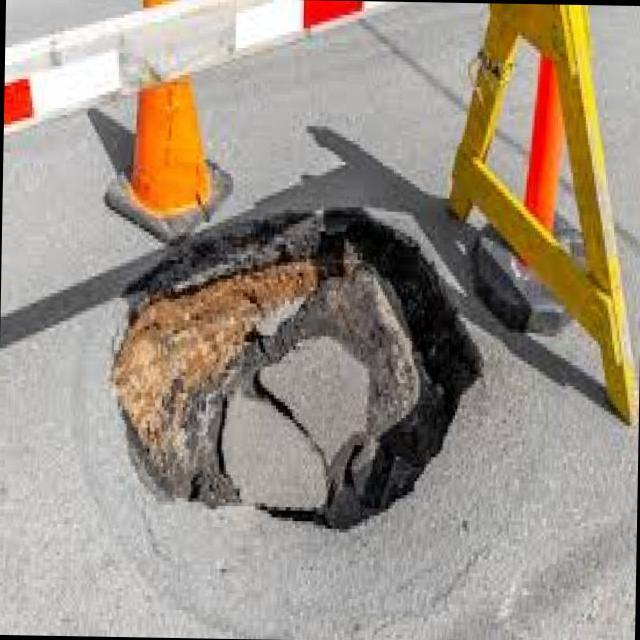Pothole: (108, 207, 481, 532)
